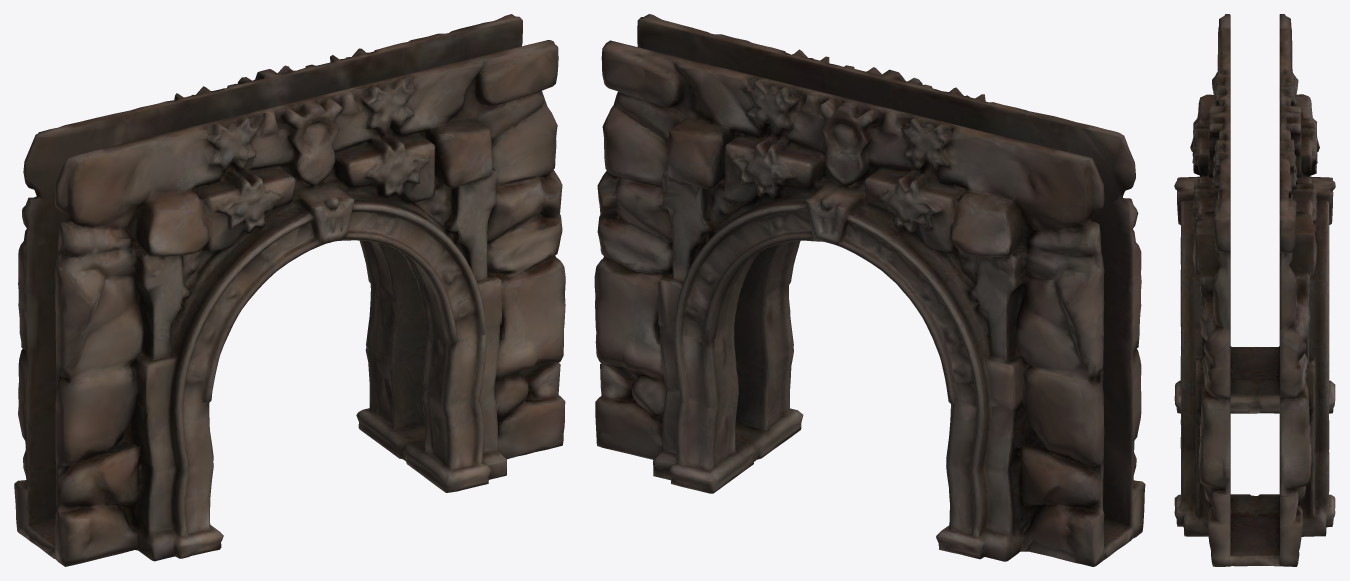
Rendered from portal_fire.glb.
3 views of the same model, side by side, from view 1: azimuth 30°, elevation 25°; view 2: azimuth 150°, elevation 25°; view 3: azimuth 270°, elevation 25° (orthographic). The views are drawn at different scales.
Bounding box in the file's own units: 2 × 1.54 × 0.6466.
Materials: 1 (1 with a texture image).
